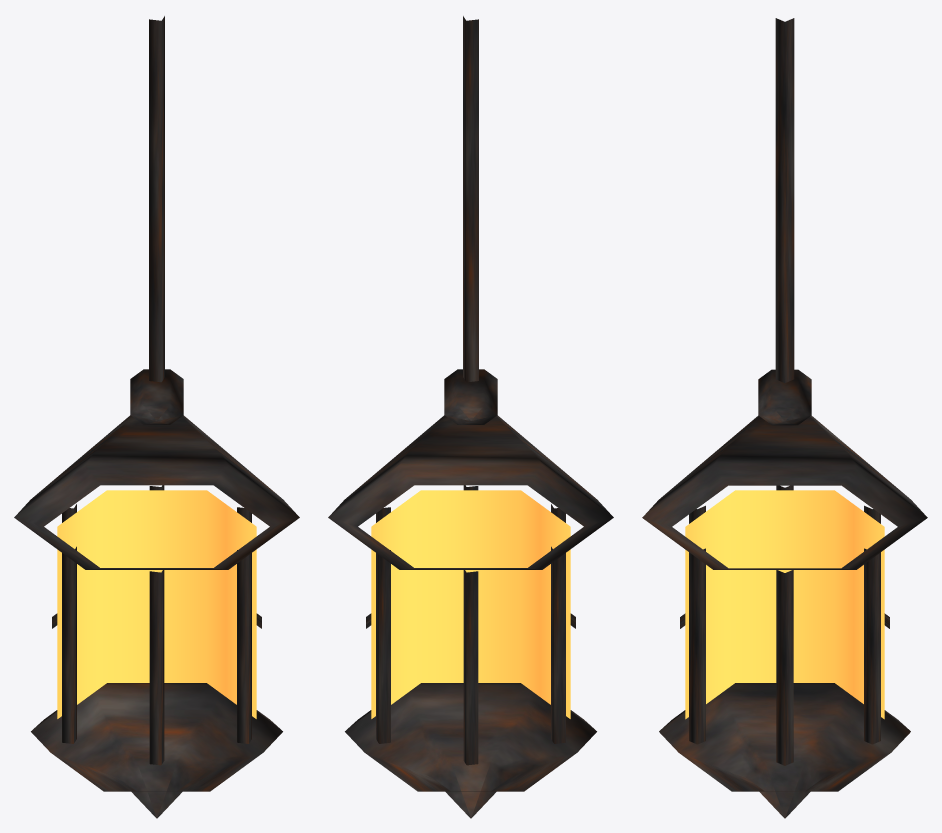
The model's file is sp_lantern_a.glb.
The picture shows the model from 3 angles, left to right: view 1: azimuth 30°, elevation 25°; view 2: azimuth 150°, elevation 25°; view 3: azimuth 270°, elevation 25°; orthographic projection.
Parts seen in each view (by area): view 1: spire; view 2: spire; view 3: spire.
Boxes of the visible parts, box(x1,y1,x2,y2) form: spire: box(14, 16, 299, 818); spire: box(328, 16, 613, 818); spire: box(642, 18, 927, 818).
Bounding box in the file's own units: 0.3724 × 1.33 × 0.43.
2 materials, 1 textured.
